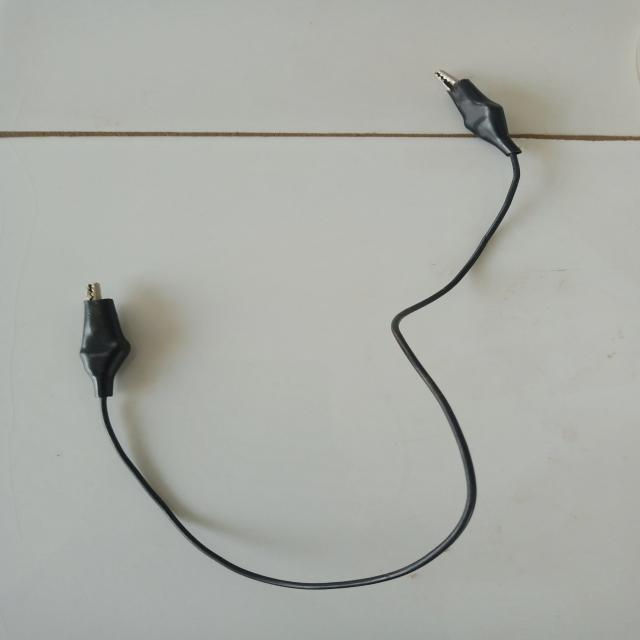BNC Cables Both Clips: (54, 60, 538, 601)
